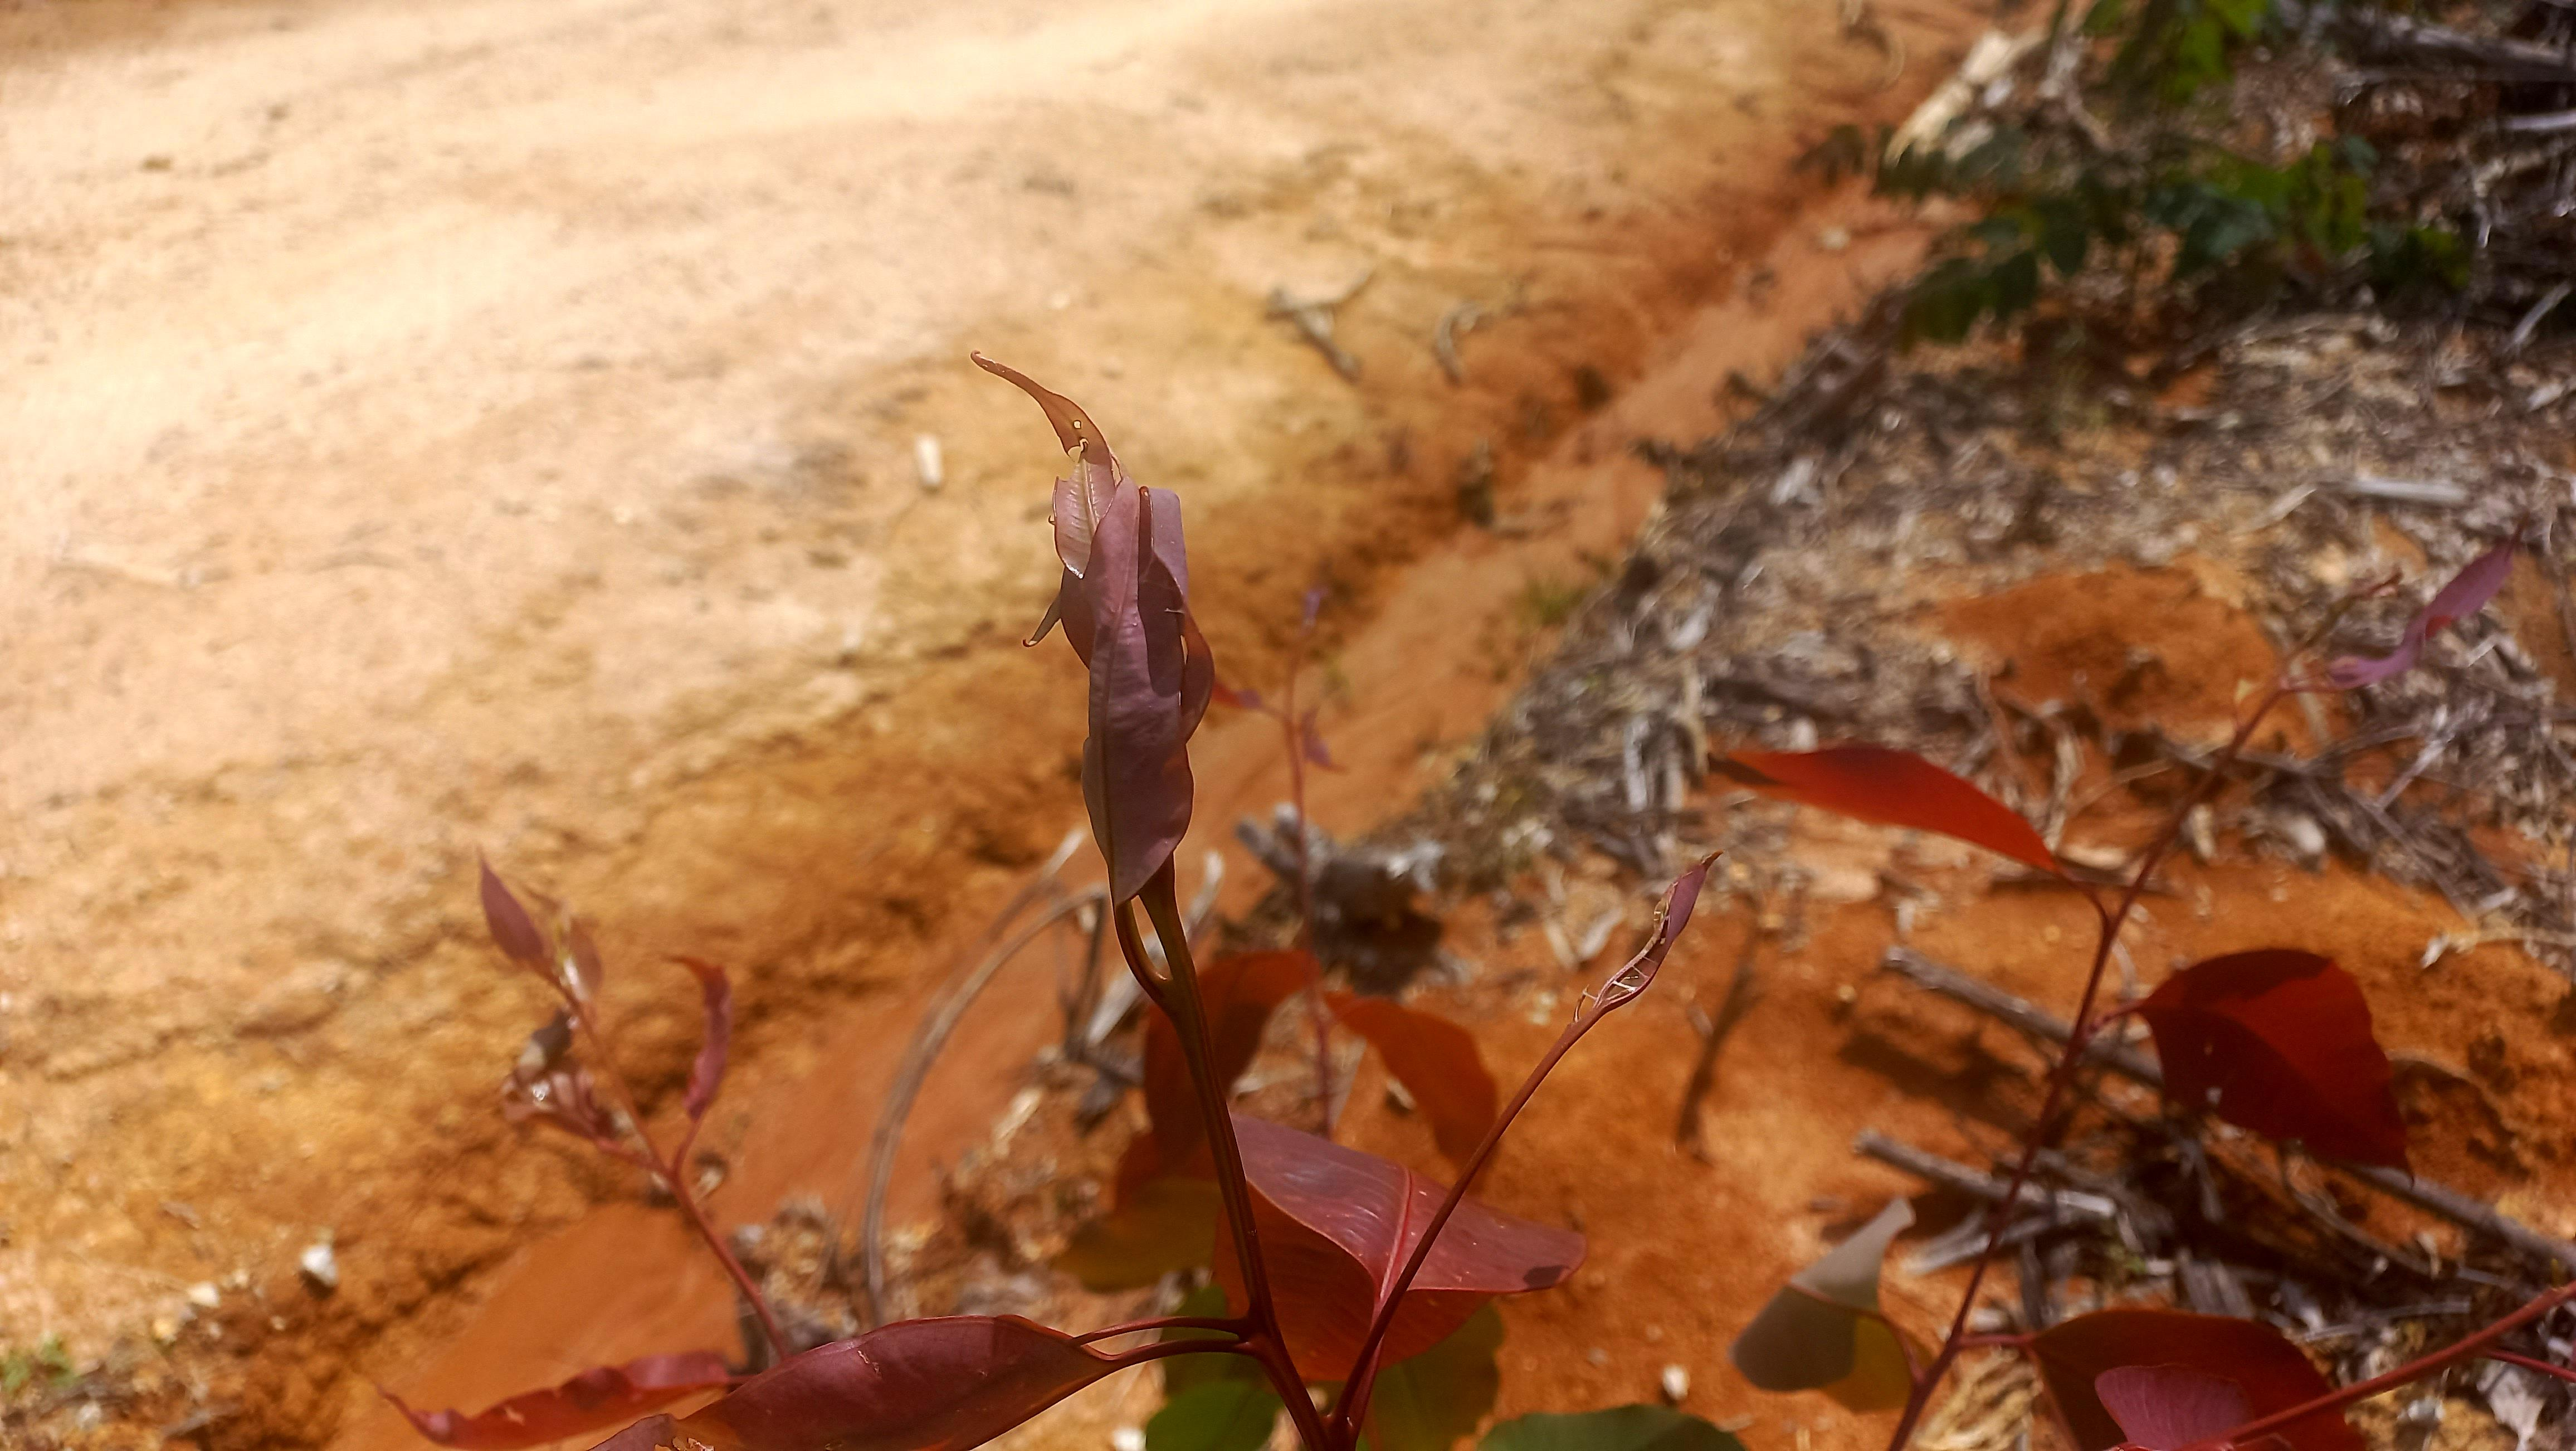Leaf Roller - Leaf: (1037, 407, 1226, 952), (1085, 480, 1214, 925), (971, 359, 1115, 579), (1571, 837, 1723, 1026), (494, 1007, 639, 1141)
